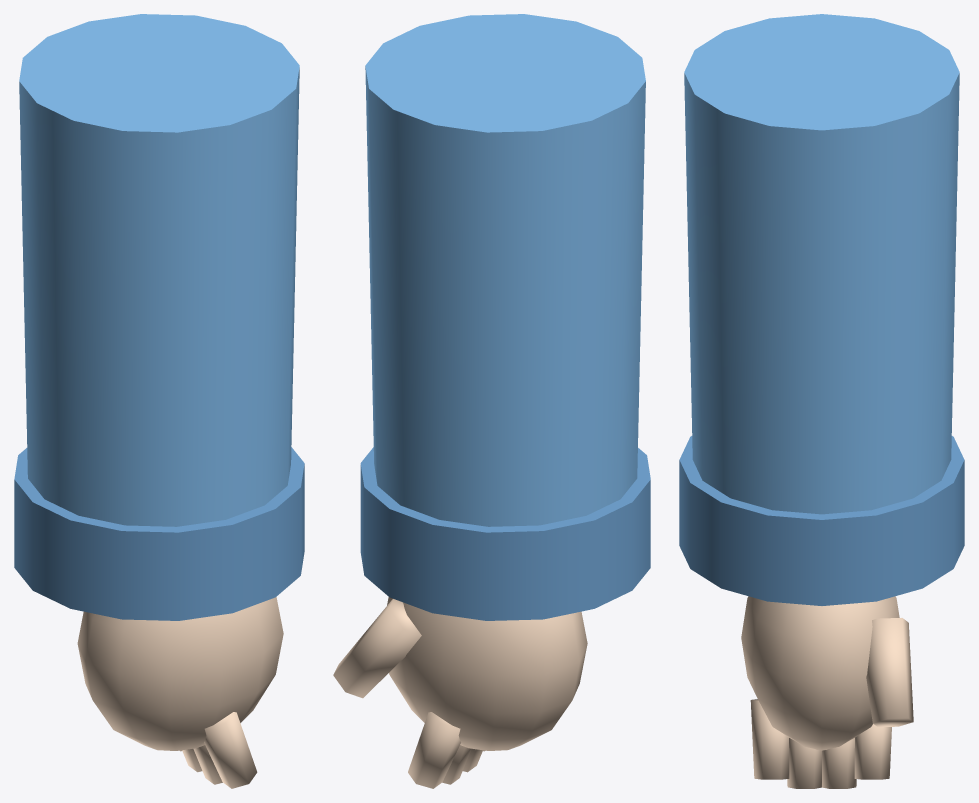
The model's file is sam_forearm.glb.
3 views of the same model, side by side, from view 1: azimuth 30°, elevation 25°; view 2: azimuth 150°, elevation 25°; view 3: azimuth 270°, elevation 25° (orthographic). The views are drawn at different scales.
Parts seen in each view (by area): view 1: sam_forearm; view 2: sam_forearm; view 3: sam_forearm.
Boxes of the visible parts, x1,y1,x2,y2 form: sam_forearm: [14, 14, 304, 788]; sam_forearm: [333, 14, 650, 788]; sam_forearm: [679, 14, 964, 788].
Bounding box in the file's own units: 0.1231 × 0.3221 × 0.12.
